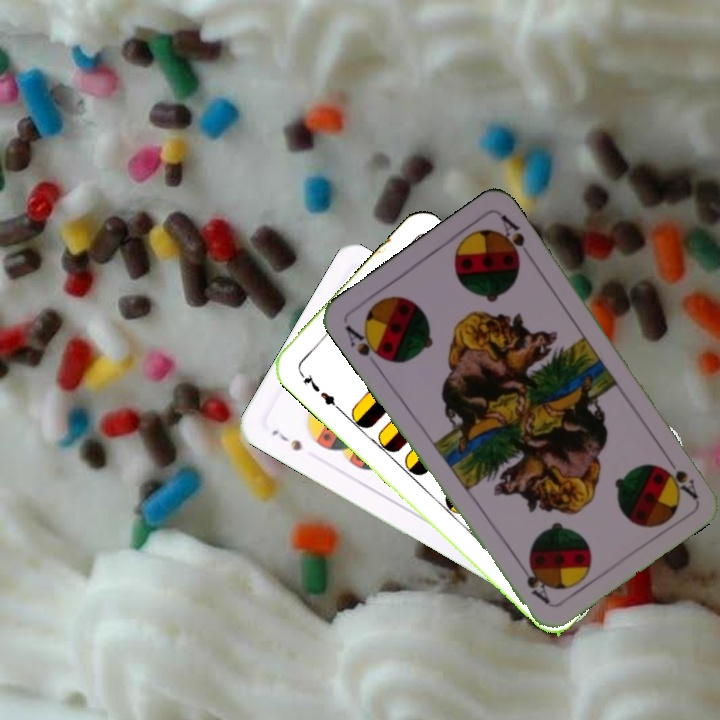E7: (295, 367, 342, 412)
S7: (267, 425, 305, 454)
SA: (340, 321, 390, 364), (660, 449, 700, 501)
